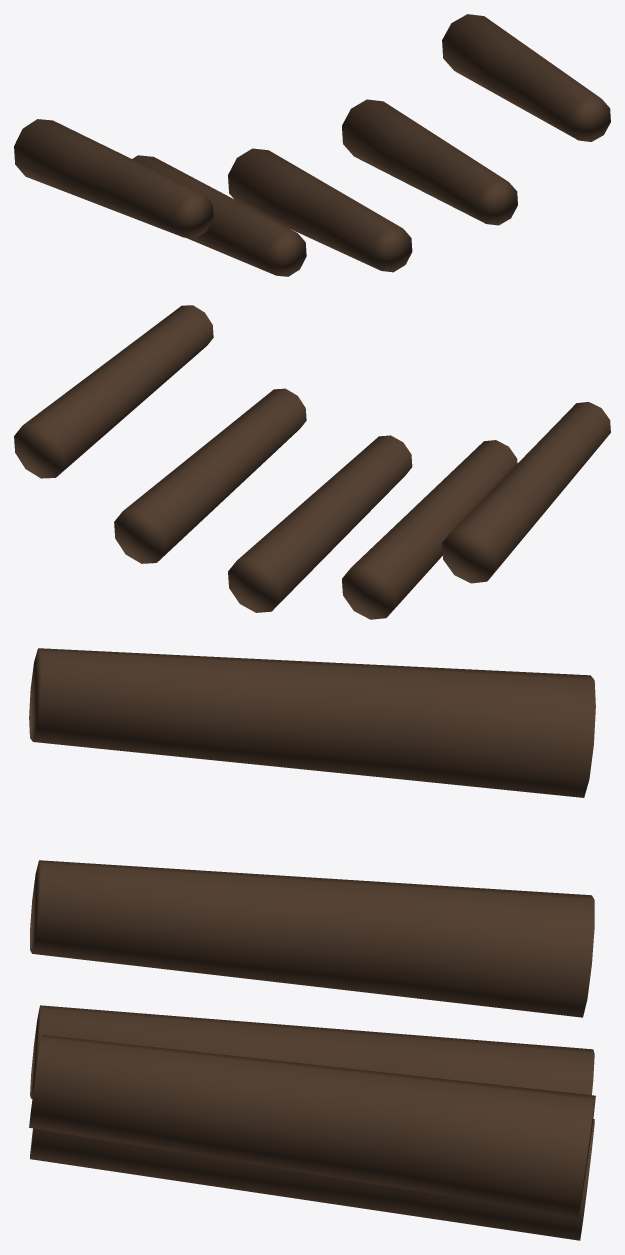
Rendered from ROOTMOTHER_ROOT_WALL_SEG.obj.
The picture shows the model from 3 angles, top to bottom: view 1: azimuth 30°, elevation 25°; view 2: azimuth 150°, elevation 25°; view 3: azimuth 270°, elevation 25°; orthographic projection. The views are drawn at different scales.
Visible parts, largest first — view 1: root_pillar_0, root_pillar_2, root_pillar_3, root_pillar_4, root_pillar_1; view 2: root_pillar_4, root_pillar_3, root_pillar_2, root_pillar_0, root_pillar_1; view 3: root_pillar_0, root_pillar_1, root_pillar_4, root_pillar_2, root_pillar_3.
Boxes of the visible parts, x1,y1,x2,y2 form: root_pillar_0: [14, 119, 213, 238]; root_pillar_2: [228, 148, 412, 272]; root_pillar_3: [342, 99, 517, 225]; root_pillar_4: [442, 14, 610, 141]; root_pillar_1: [132, 155, 306, 276]; root_pillar_4: [14, 305, 213, 478]; root_pillar_3: [114, 388, 306, 563]; root_pillar_2: [228, 435, 412, 612]; root_pillar_0: [442, 402, 610, 583]; root_pillar_1: [342, 440, 517, 619]; root_pillar_0: [29, 648, 595, 797]; root_pillar_1: [30, 860, 594, 1017]; root_pillar_4: [29, 1035, 595, 1216]; root_pillar_2: [30, 1005, 594, 1098]; root_pillar_3: [30, 1119, 594, 1240].
Bounding box in the file's own units: 6.04 × 1.93 × 3.08.
